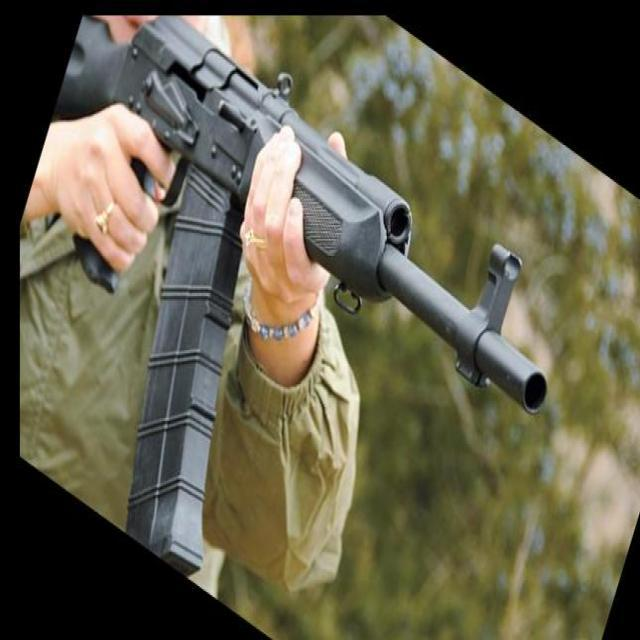weapon: (49, 15, 550, 578)
